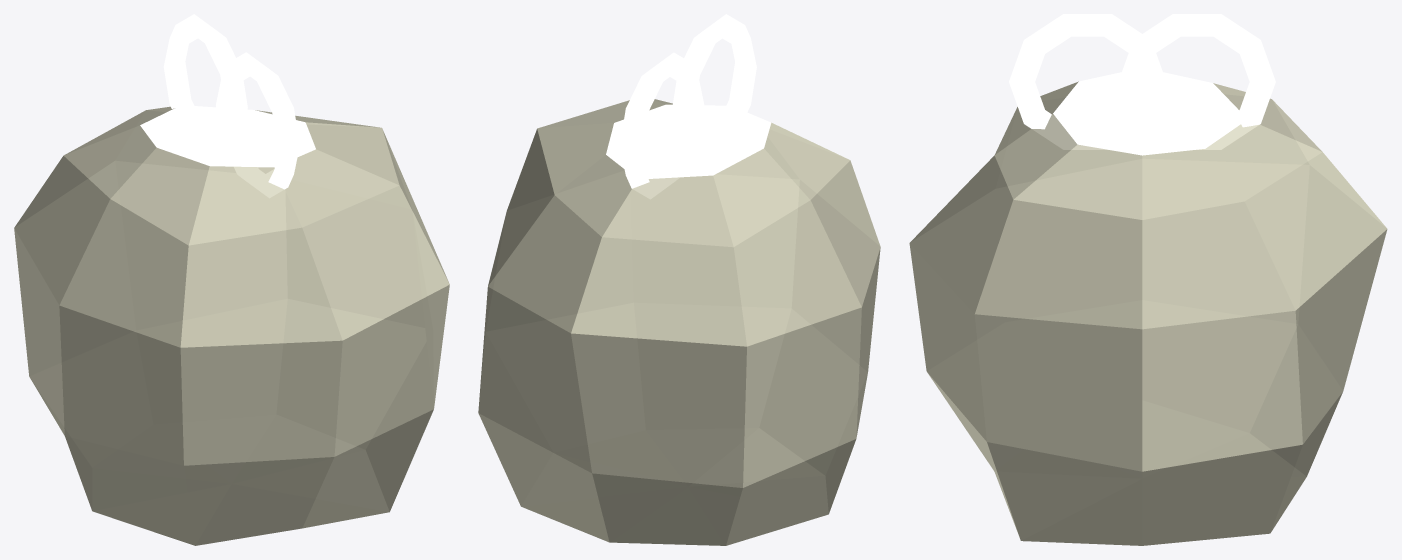
File: Waste_Bag.fbx
3 views of the same model, side by side, from view 1: azimuth 30°, elevation 25°; view 2: azimuth 150°, elevation 25°; view 3: azimuth 270°, elevation 25° (orthographic). The views are drawn at different scales.
Parts seen in each view (by area): view 1: Waste_Bag; view 2: Waste_Bag; view 3: Waste_Bag.
Boxes of the visible parts, x1,y1,x2,y2 form: Waste_Bag: [14, 14, 449, 545]; Waste_Bag: [478, 14, 880, 545]; Waste_Bag: [909, 14, 1387, 545].
Bounding box in the file's own units: 0.4143 × 0.4795 × 0.4367.
